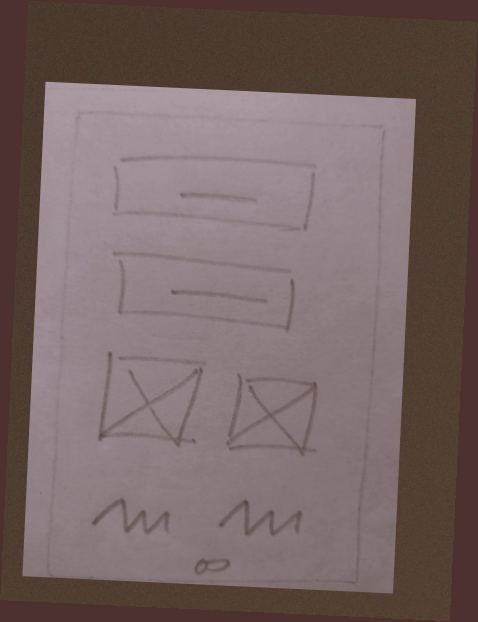button: (104, 141, 331, 241), (100, 243, 308, 340)
image: (91, 344, 213, 458), (220, 366, 330, 462)
switch: (185, 551, 238, 576)
text: (207, 489, 311, 546), (84, 489, 187, 545)
